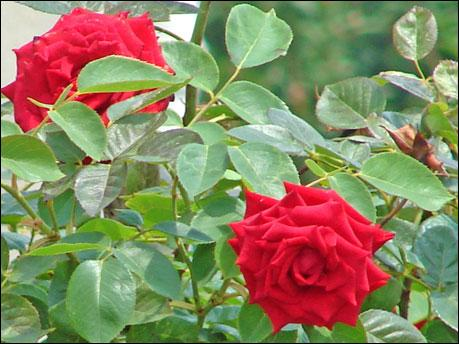Rose: (222, 184, 394, 335), (7, 11, 172, 128)
